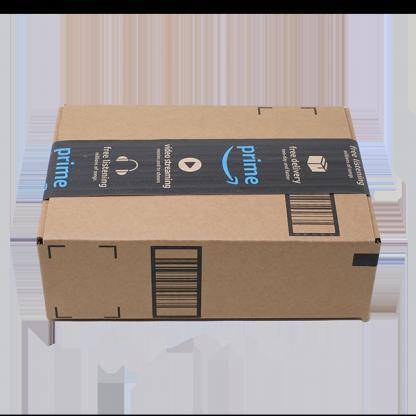package: (30, 100, 387, 328)
